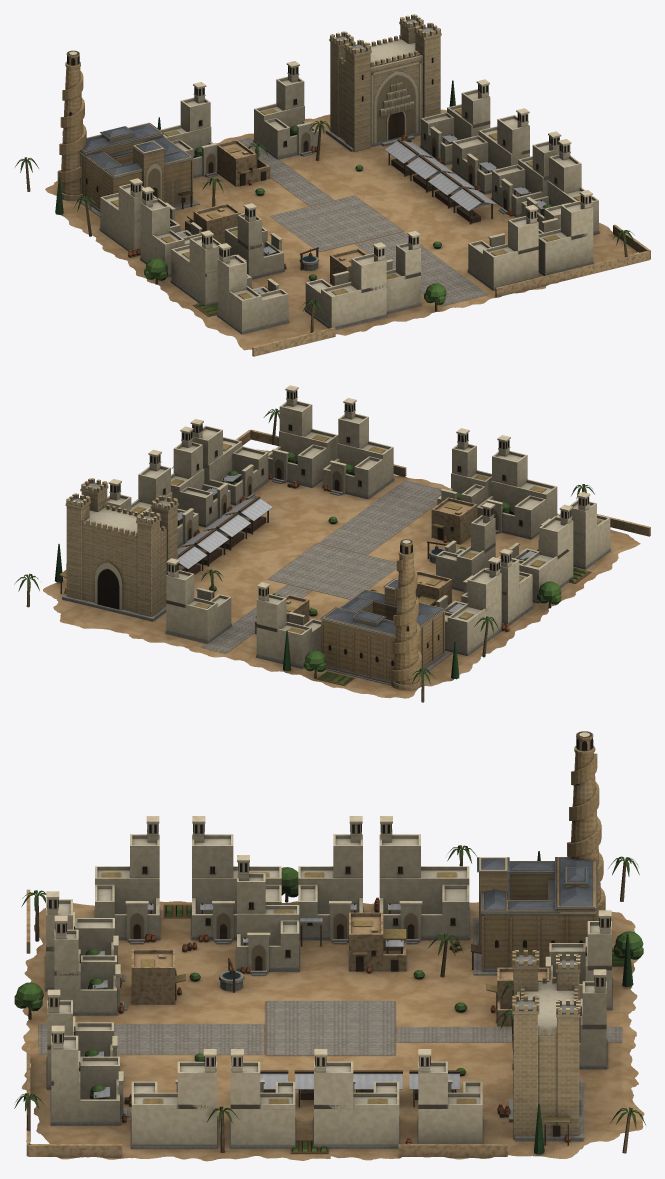
File: kingdoms-town-medium-a-levant.glb
3 views of the same model, one above another, from view 1: azimuth 30°, elevation 25°; view 2: azimuth 150°, elevation 25°; view 3: azimuth 270°, elevation 25° (orthographic). The views are drawn at different scales.
Visible parts, largest first — view 1: LOD0; view 2: LOD0; view 3: LOD0.
Boxes of the visible parts, x1,y1,x2,y2 form: LOD0: [15, 14, 650, 356]; LOD0: [14, 385, 650, 702]; LOD0: [14, 731, 645, 1161].
Size of what is drawn, in the model's own units: 6.12 by 2 by 6.11.
Materials: 3 (3 with a texture image).
